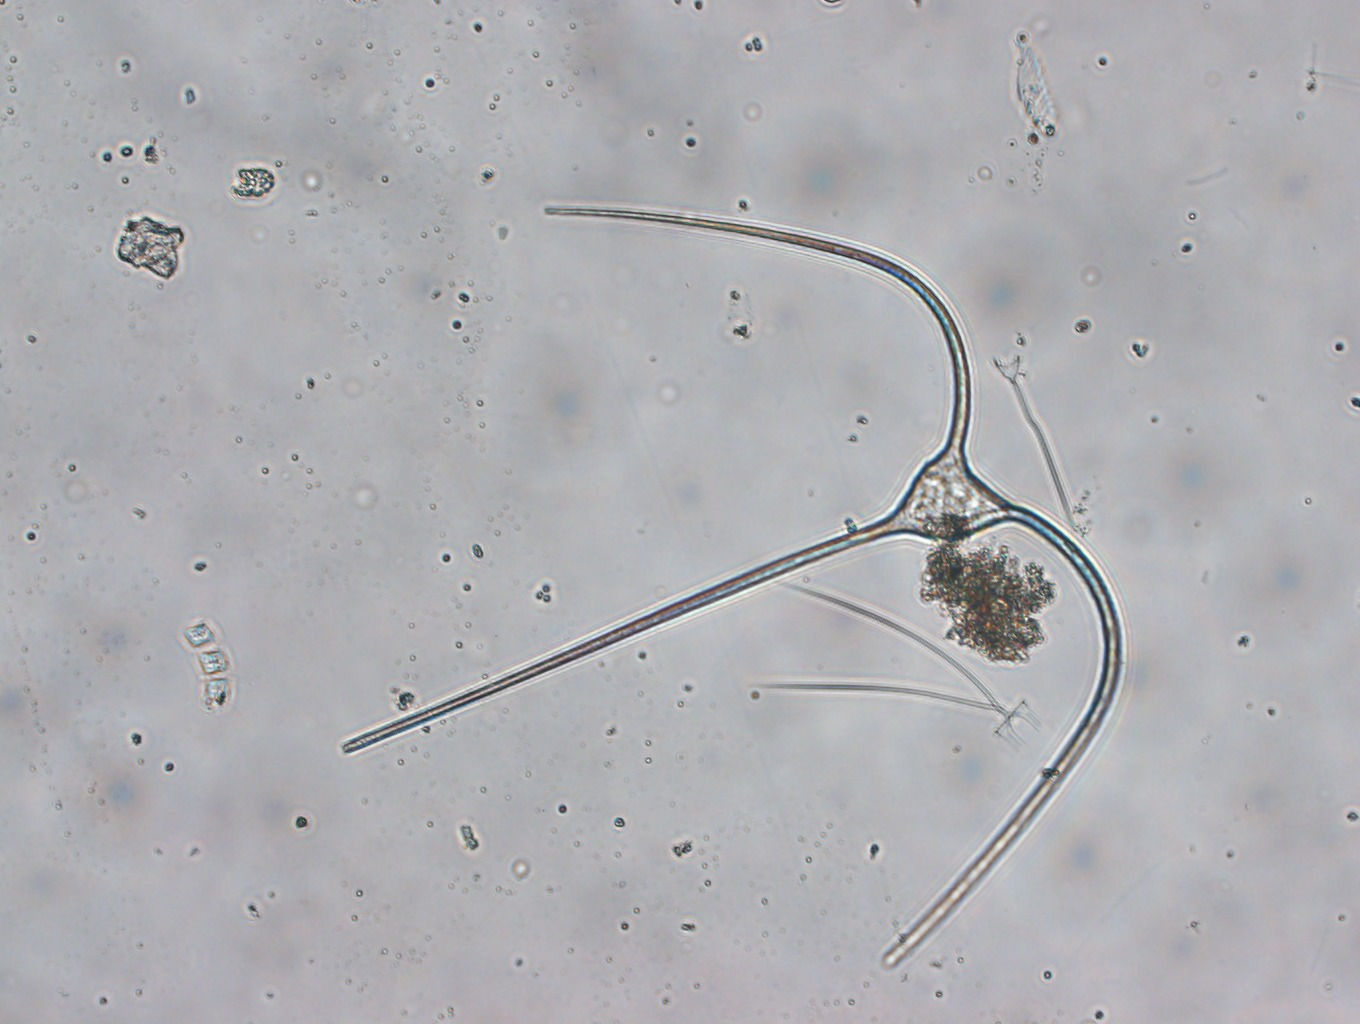ceratium trichoceros: (341, 191, 1132, 975)
